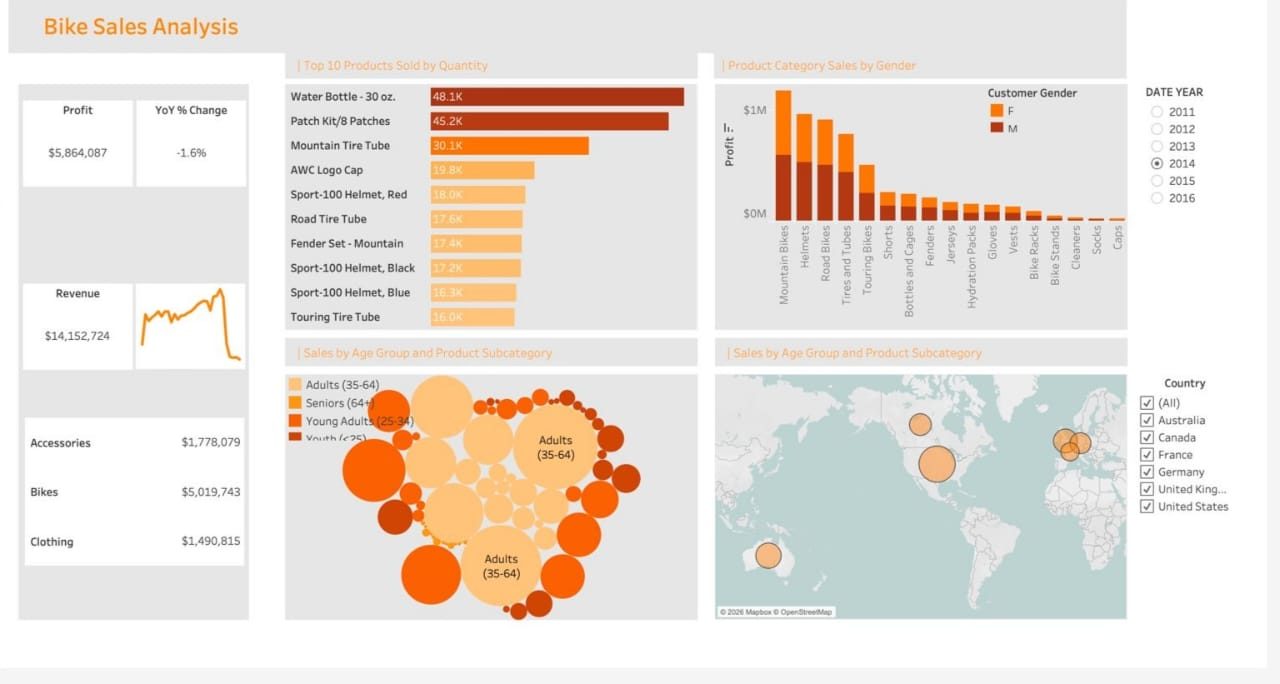

The page's visual inventory and layout, read from the dashboard file:
{"tool":"tableau","page":{"name":"Sales Dashboard","canvas":[1400,750],"ordinal":0},"visuals":[{"type":"title","box":[8,8,1241,68]},{"type":"text","box":[317.3,68.7,455.3,31.6]},{"type":"text","box":[789.6,68.7,455.3,31.6]},{"type":"worksheet","title":"Top 10 Products","mark":"Bar","rows":["Product"],"box":[317.3,105.7,455.3,271.1]},{"type":"worksheet","title":"Sub Category Bar Chart ","mark":"Automatic","rows":["Profit"],"cols":["Sub_Category"],"box":[790.6,105.7,455.3,271.1]},{"type":"parameter","param":"[Parameters].[Parameter 1]","box":[1266,105.7,120.9,190.7]},{"type":"legend","title":"Sub Category Bar Chart ","param":"[federated.1uhaebu05e61gt1ad8c5h1yjvo3l].[none:Customer_Gender:nk]","box":[1091.8,106.6,140,52.4]},{"type":"worksheet","title":"Profit Card","mark":"Automatic","cols":["Calculation_0452956817235969"],"box":[28.2,123.8,120.9,94.9]},{"type":"worksheet","title":"YoY %change","mark":"Automatic","cols":["Calculation_0452956822155273"],"box":[153.1,123.8,120.9,94.9]},{"type":"worksheet","title":"Revenue Card","mark":"Automatic","cols":["Calculation_0452956823531530"],"box":[28.2,326.2,120.9,94.9]},{"type":"worksheet","title":"Revenue Line Chart","mark":"Automatic","rows":["Revenue"],"cols":["Date"],"box":[152.1,326.2,120.9,94.9]},{"type":"text","box":[317.3,385.8,455.3,31.6]},{"type":"text","box":[790.6,385.8,455.3,31.6]},{"type":"worksheet","title":"Age Group Bubble Chart","mark":"Circle","box":[317.3,425.6,455.3,271.1]},{"type":"worksheet","title":"Map","mark":"Automatic","box":[790.6,425.6,455.3,271.1]},{"type":"legend","title":"Age Group Bubble Chart","param":"[federated.1uhaebu05e61gt1ad8c5h1yjvo3l].[none:Age_Group:nk]","box":[318.3,426.5,168.2,72.3]},{"type":"filter","title":"Age Group Bubble Chart","param":"[federated.1uhaebu05e61gt1ad8c5h1yjvo3l].[none:Country:nk]","box":[1254,426.5,110.8,164.5]},{"type":"worksheet","title":"Cost Card","mark":"Automatic","rows":["Product_Category"],"box":[30.2,474.4,241.7,162.7]}]}

Visuals, with their boxes in screenshot pixels (x1, y1, x2, y2), scaled from the page's 1400x750 canvas onto the 1280x684 screenshot:
title: 7:7:1142:69
text: 290:63:706:91
text: 722:63:1138:91
"Top 10 Products" worksheet (Bar marks): 290:96:706:344
"Sub Category Bar Chart " worksheet: 723:96:1139:344
parameter: 1157:96:1268:270
"Sub Category Bar Chart " legend: 998:97:1126:145
"Profit Card" worksheet: 26:113:136:199
"YoY %change" worksheet: 140:113:251:199
"Revenue Card" worksheet: 26:297:136:384
"Revenue Line Chart" worksheet: 139:297:250:384
text: 290:352:706:381
text: 723:352:1139:381
"Age Group Bubble Chart" worksheet (Circle marks): 290:388:706:635
"Map" worksheet: 723:388:1139:635
"Age Group Bubble Chart" legend: 291:389:445:455
"Age Group Bubble Chart" filter: 1147:389:1248:539
"Cost Card" worksheet: 28:433:249:581
